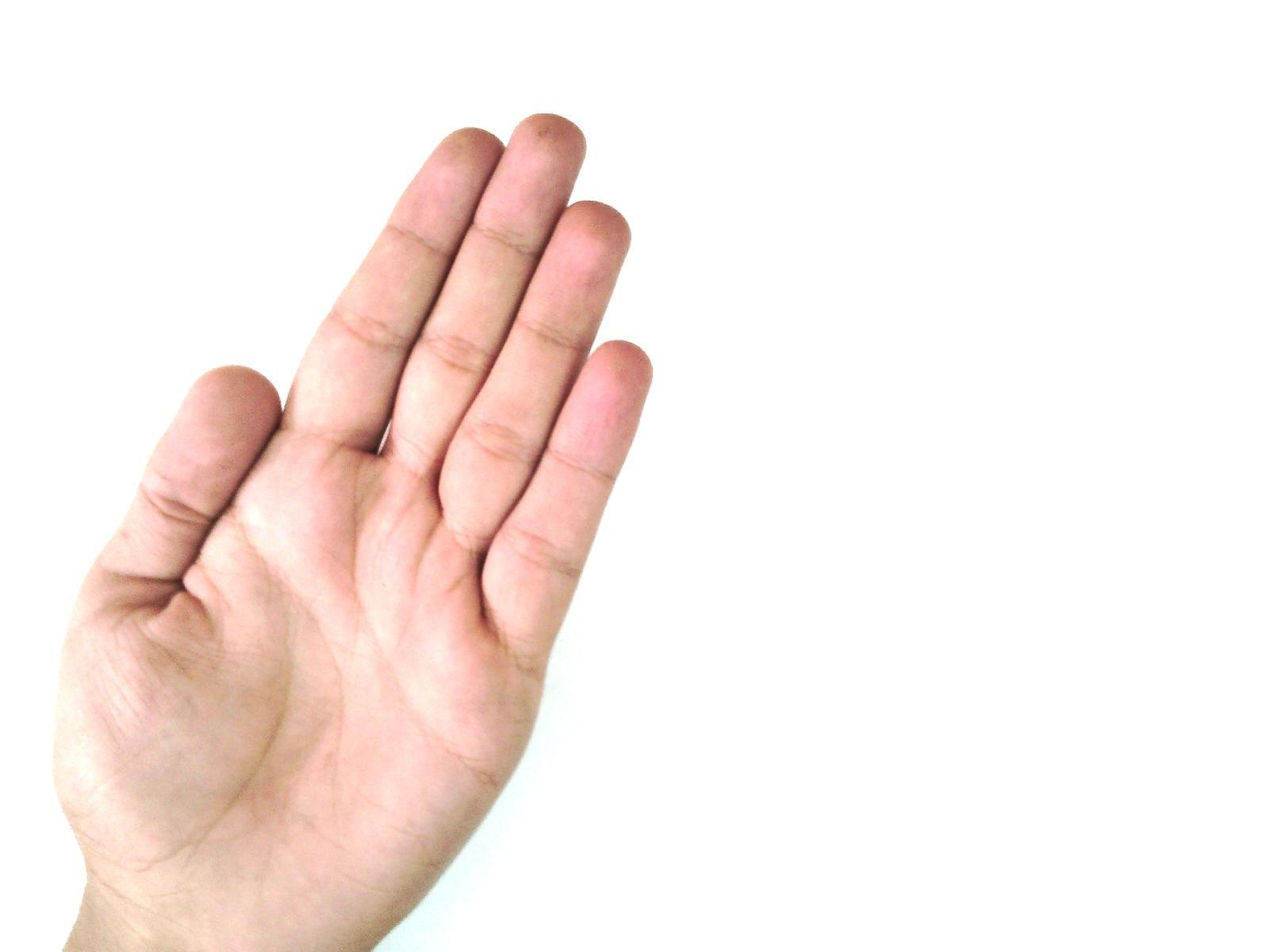open_palm: (50, 112, 657, 951)
